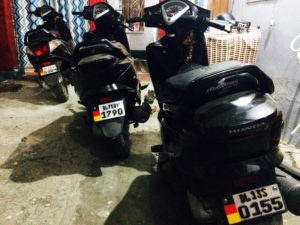plate: (88, 99, 136, 128)
